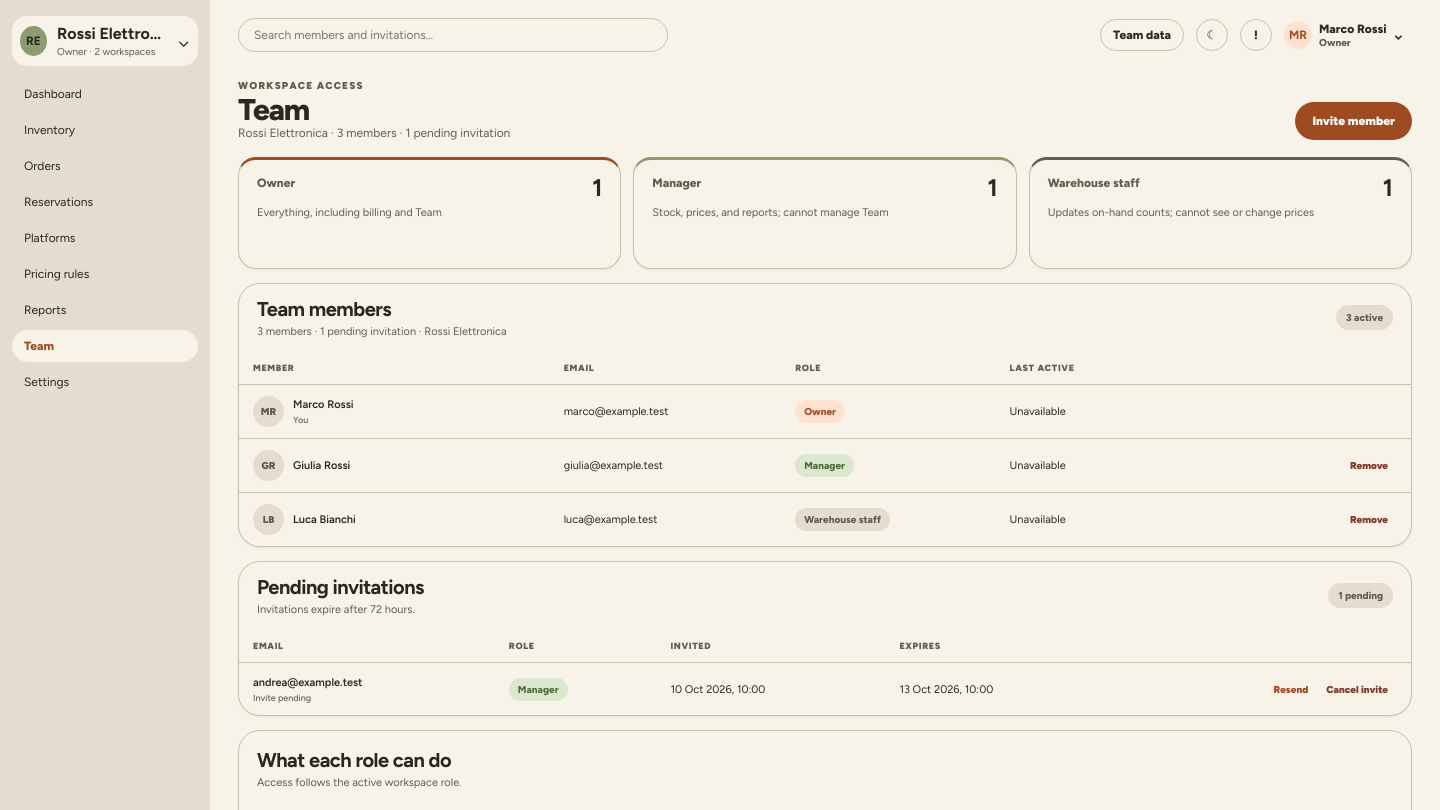
Test case: Milestone 9 Team route › confirms resend, reports delivery failures, and leaves the pending invite visible
What coordinates should you click on to do the following:
click the button "Resend"
I would click on:
 (1291, 689)
Its box is left=1265, top=674, right=1317, bottom=704.
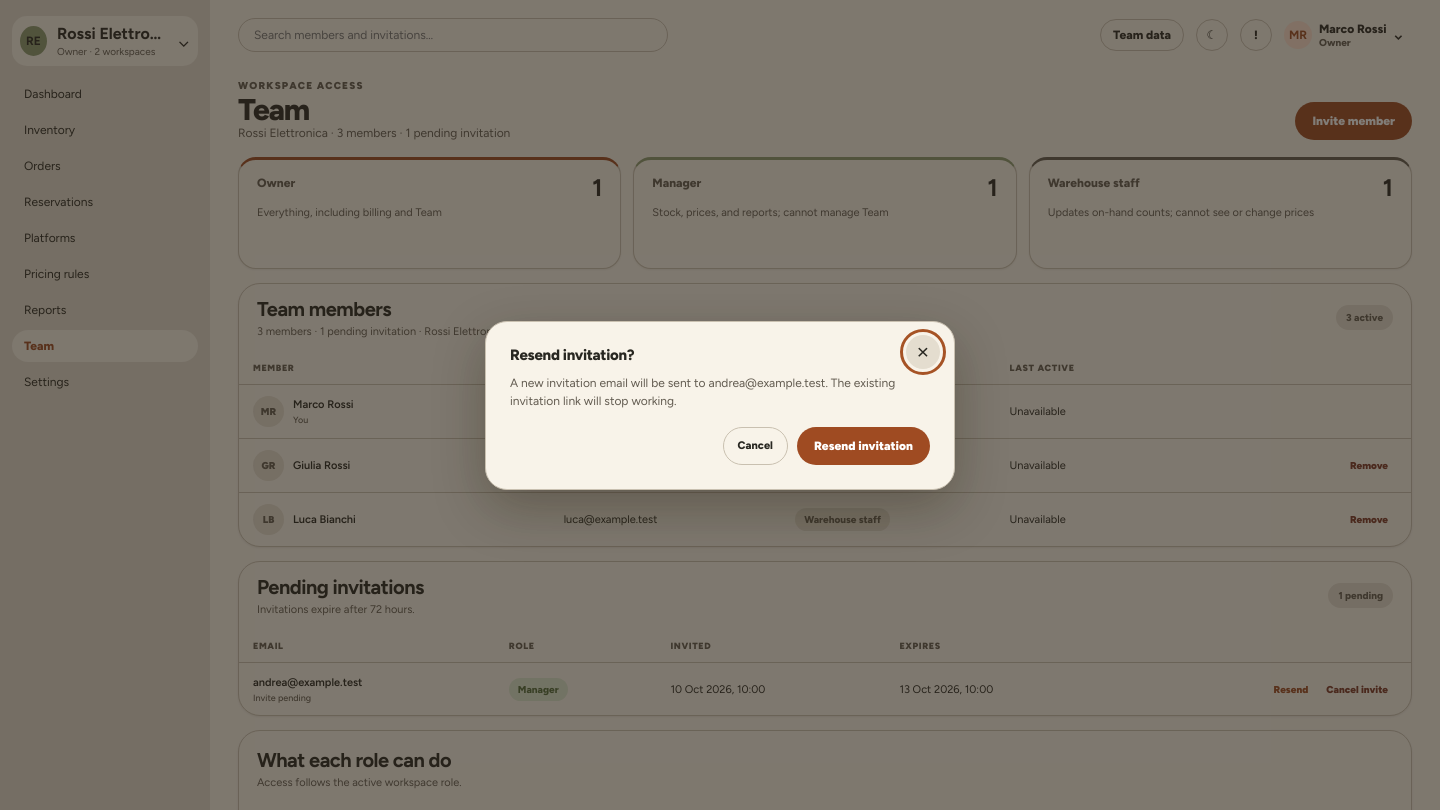
What coordinates should you click on to do the following:
click the button "Resend invitation"
I would click on:
 (863, 446)
Its box is left=797, top=426, right=930, bottom=464.
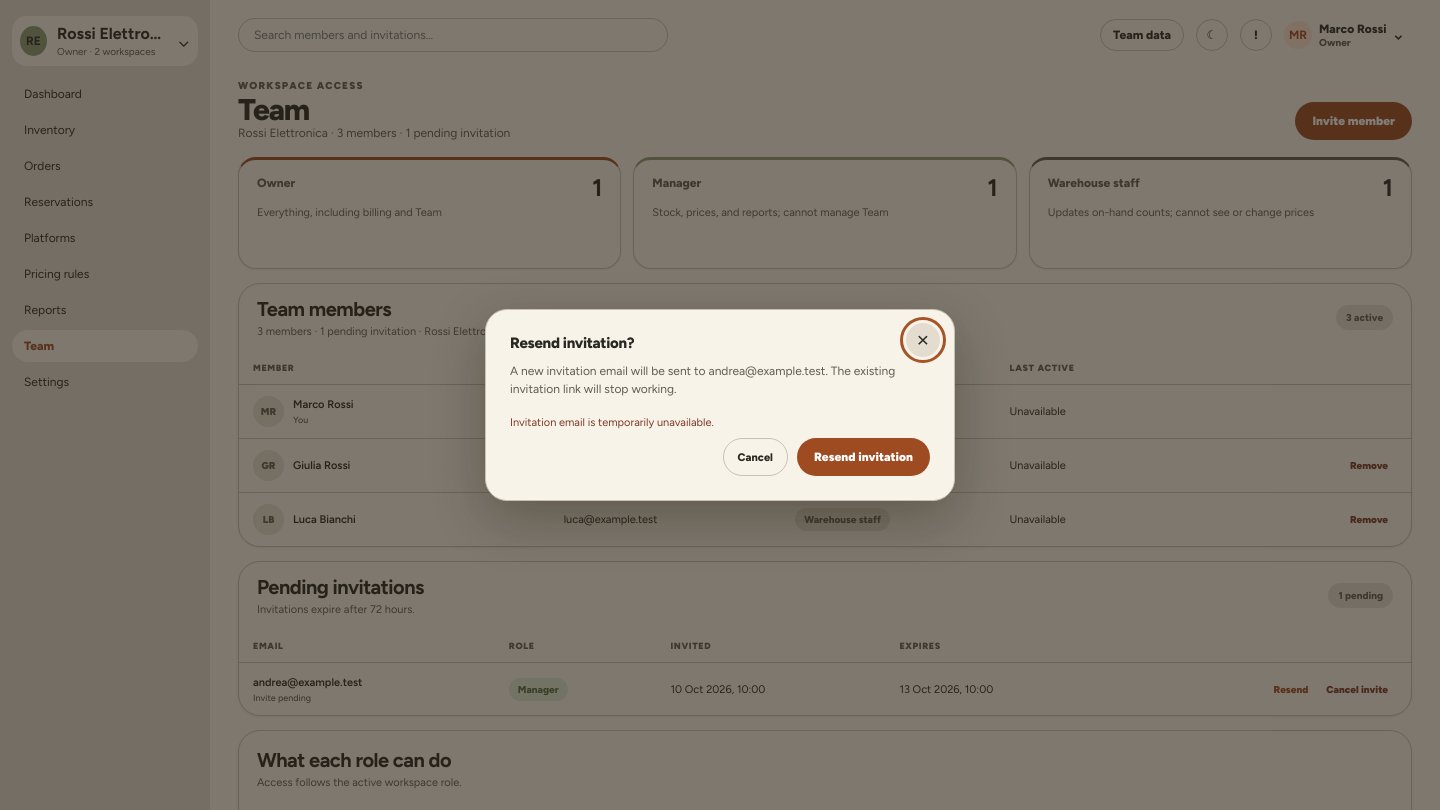
Expected: the text "andrea@example.test" is shown, left=253, top=676, right=362, bottom=689
Expected: the text "Invitation email is temporarily unavailable." is shown, left=510, top=416, right=714, bottom=428
